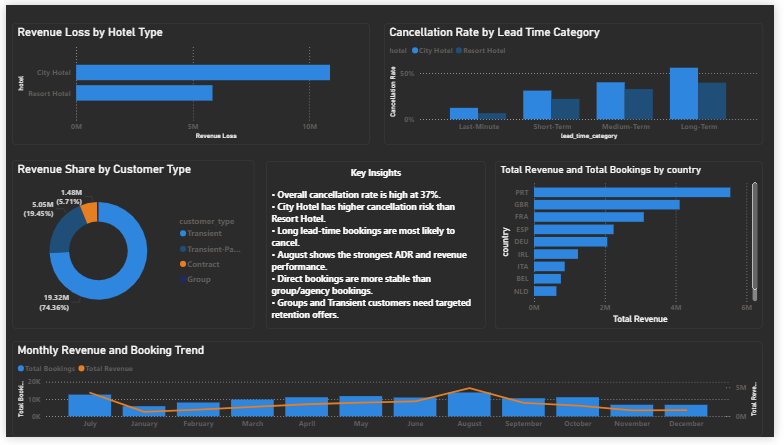

The dashboard page shown, as its layout file describes it:
{"tool":"powerbi","page":{"name":"Page 1","canvas":[1280,720],"ordinal":1},"visuals":[{"type":"clusteredBarChart","title":"Revenue Loss by Hotel Type","fields":{"Category":["cleaned_hotel_bookings.hotel"],"Y":["cleaned_hotel_bookings.Revenue Loss"]},"box":[10.2,30.7,595.6,203.4],"z":0},{"type":"donutChart","title":"Revenue Share by Customer Type","fields":{"Category":["cleaned_hotel_bookings.customer_type"],"Y":["cleaned_hotel_bookings.Total Revenue"]},"box":[10.2,259,403.9,281],"z":1000},{"type":"clusteredColumnChart","title":"Cancellation Rate by Lead Time Category","fields":{"Category":["cleaned_hotel_bookings.lead_time_category"],"Y":["cleaned_hotel_bookings.Cancellation Rate"],"Series":["cleaned_hotel_bookings.hotel"]},"box":[629.3,30.7,632.2,203.4],"z":2000},{"type":"clusteredBarChart","fields":{"Category":["cleaned_hotel_bookings.country"],"Y":["cleaned_hotel_bookings.Total Revenue"]},"box":[815.1,260.5,446.3,279.5],"z":3000},{"type":"lineClusteredColumnComboChart","title":"Monthly Revenue and Booking Trend","fields":{"Category":["cleaned_hotel_bookings.arrival_date_month"],"Y":["cleaned_hotel_bookings.Total Bookings"],"Y2":["cleaned_hotel_bookings.Total Revenue"]},"box":[10.2,560.5,1251.2,159.5],"z":4000},{"type":"textbox","box":[433.2,260.5,365.9,279.5],"z":5000}]}

Visuals, with their boxes in screenshot pixels (x1, y1, x2, y2), scaled from the page's 1280x720 canvas onto the 784x445 screenshot:
"Revenue Loss by Hotel Type" clusteredBarChart: <bbox>6, 19, 371, 145</bbox>
"Revenue Share by Customer Type" donutChart: <bbox>6, 160, 254, 334</bbox>
"Cancellation Rate by Lead Time Category" clusteredColumnChart: <bbox>385, 19, 773, 145</bbox>
clusteredBarChart - cleaned_hotel_bookings.country x cleaned_hotel_bookings.Total Revenue: <bbox>499, 161, 773, 334</bbox>
"Monthly Revenue and Booking Trend" lineClusteredColumnComboChart: <bbox>6, 346, 773, 444</bbox>
textbox: <bbox>265, 161, 489, 334</bbox>
